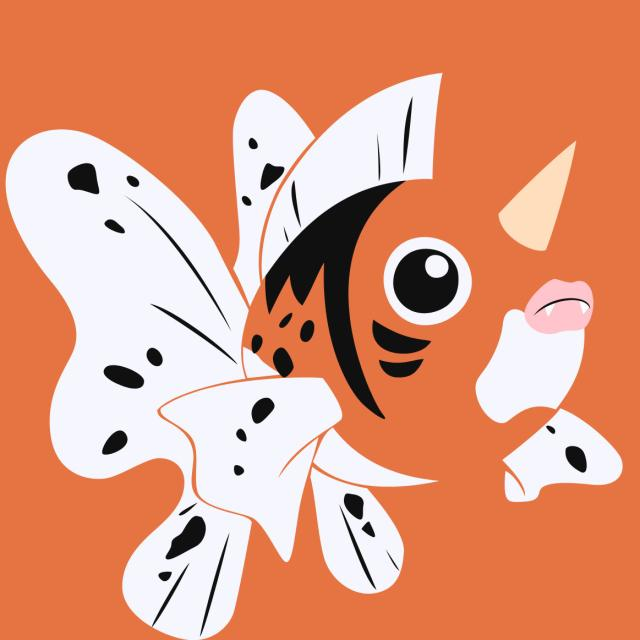Seaking: (152, 76, 606, 570)
